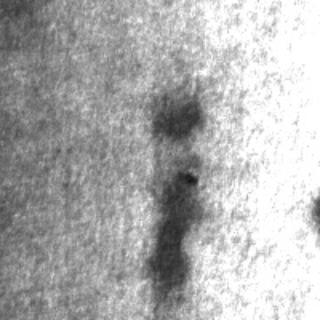patches: (146, 167, 204, 301), (149, 96, 201, 136)
